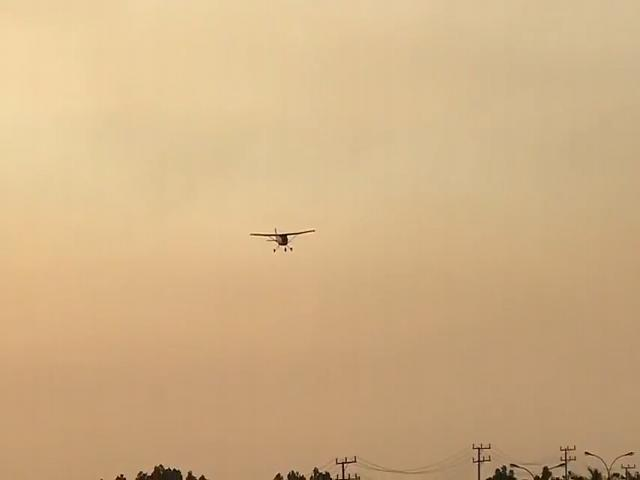plane: (250, 227, 316, 251)
